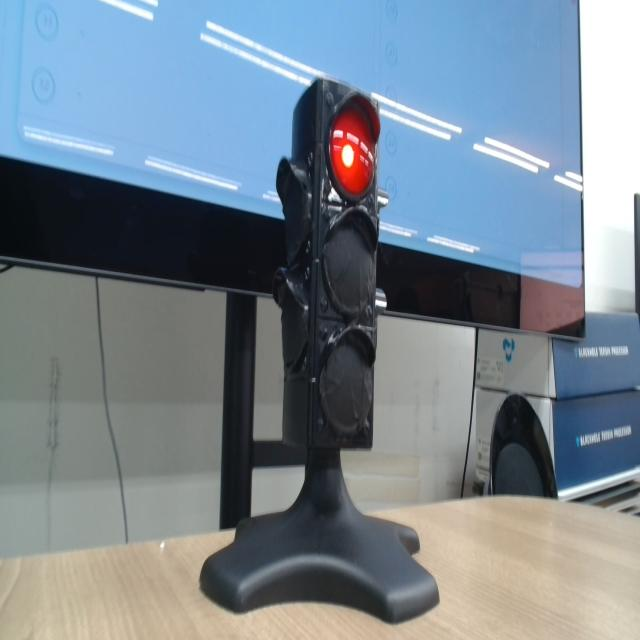red_light: (330, 107, 374, 198)
